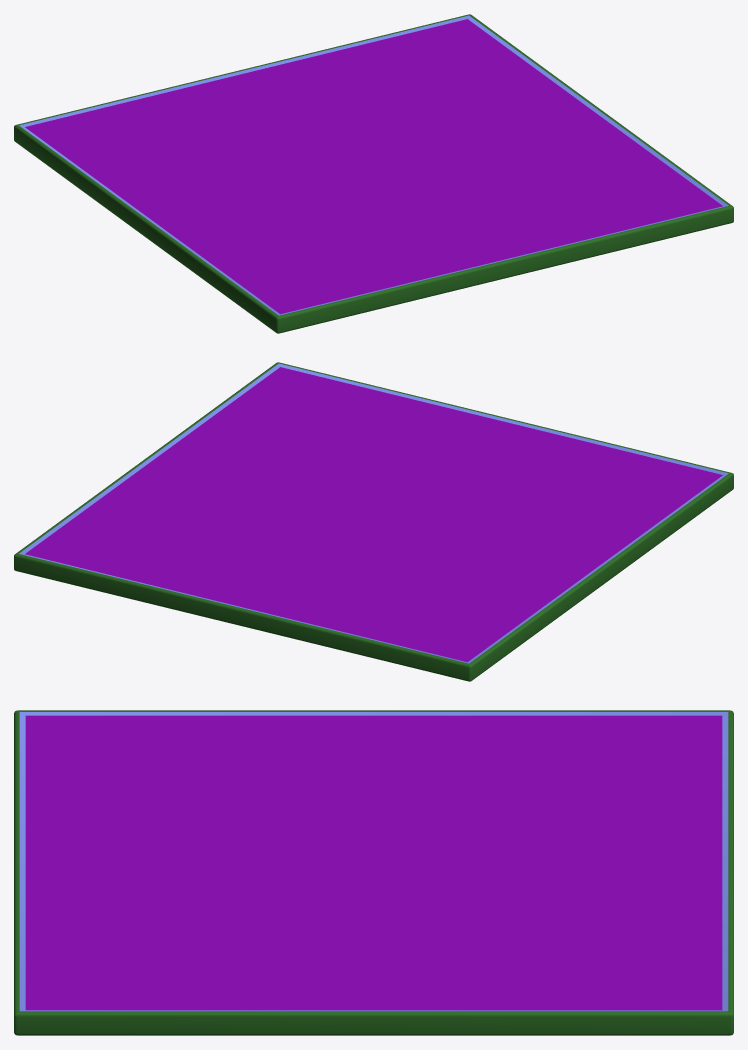
3 renders of one model, top to bottom at view 1: azimuth 30°, elevation 25°; view 2: azimuth 150°, elevation 25°; view 3: azimuth 270°, elevation 25°, orthographic. The views are drawn at different scales.
Parts seen in each view (by area): view 1: Section005; view 2: Section005; view 3: Section005.
Boxes of the visible parts, bbox=[...] form: Section005: bbox=[14, 14, 733, 333]; Section005: bbox=[14, 362, 733, 681]; Section005: bbox=[14, 710, 733, 1035].
Size of the model in its own units: 200 by 7 by 200.
